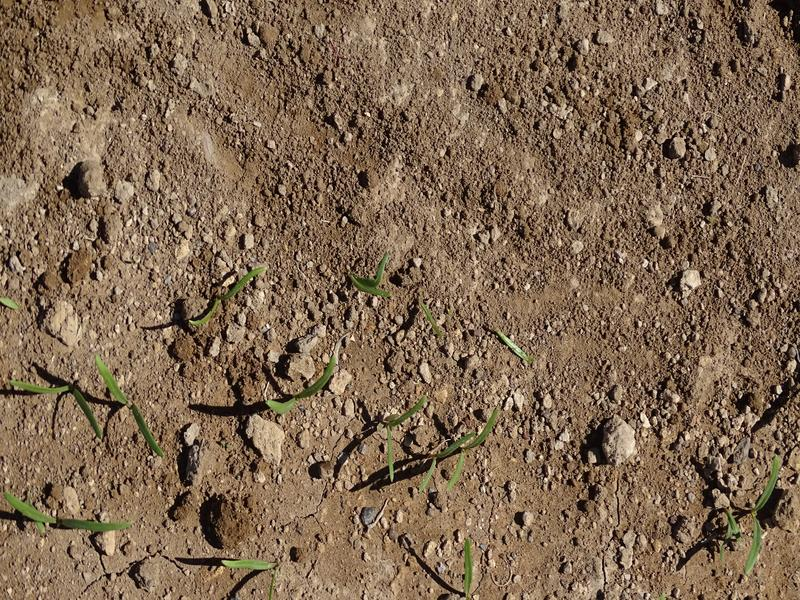Espinaca: (95, 354, 171, 458), (262, 335, 348, 415), (731, 449, 783, 580), (10, 370, 104, 441), (1, 485, 133, 534), (366, 392, 430, 484), (432, 407, 500, 492), (191, 266, 266, 330), (339, 252, 398, 301), (212, 552, 286, 583), (454, 535, 479, 596)
